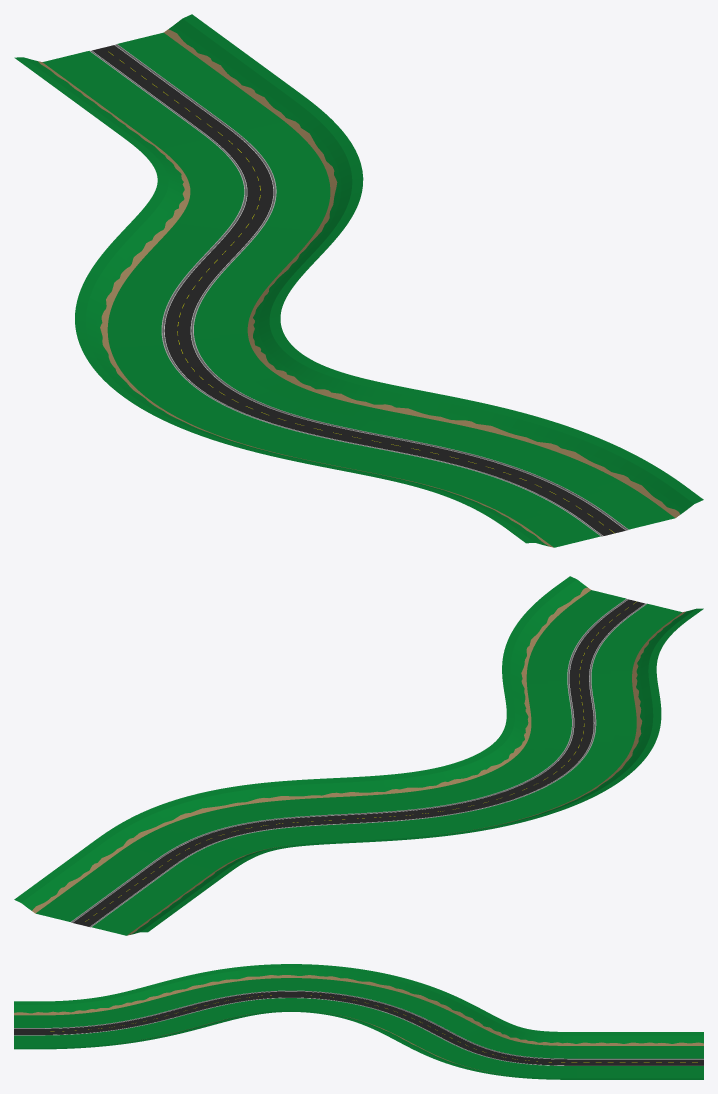
File: highway-02.fbx
The picture shows the model from 3 angles, top to bottom: view 1: azimuth 30°, elevation 25°; view 2: azimuth 150°, elevation 25°; view 3: azimuth 270°, elevation 25°; orthographic projection. The views are drawn at different scales.
Visible parts, largest first — view 1: HW-01; view 2: HW-01; view 3: HW-01.
Part boxes in pixels (x1,y1,x2,y2): HW-01: (14,14,703,547); HW-01: (14,576,703,935); HW-01: (14,964,703,1079).
Size of what is drawn, in the model's own units: 232 by 8.51 by 572.
